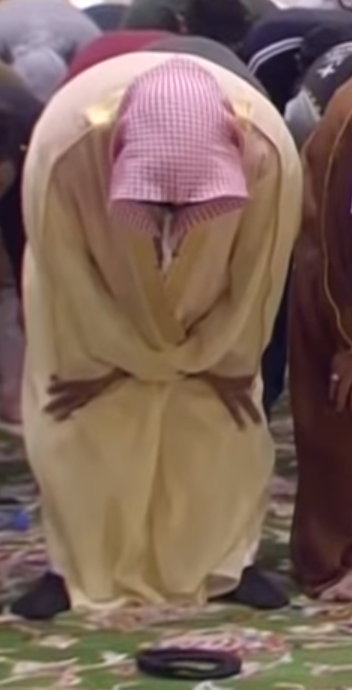ruku: (14, 44, 329, 640)
